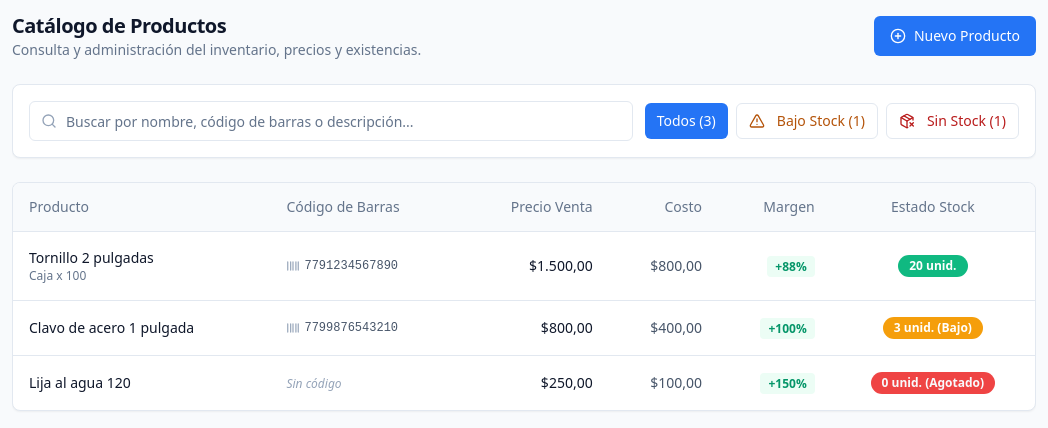
Test case: CatalogView Component › should filter products by "Bajo Stock"
Click the button "Bajo Stock (1)" at (807, 121), box [736,103,878,139]
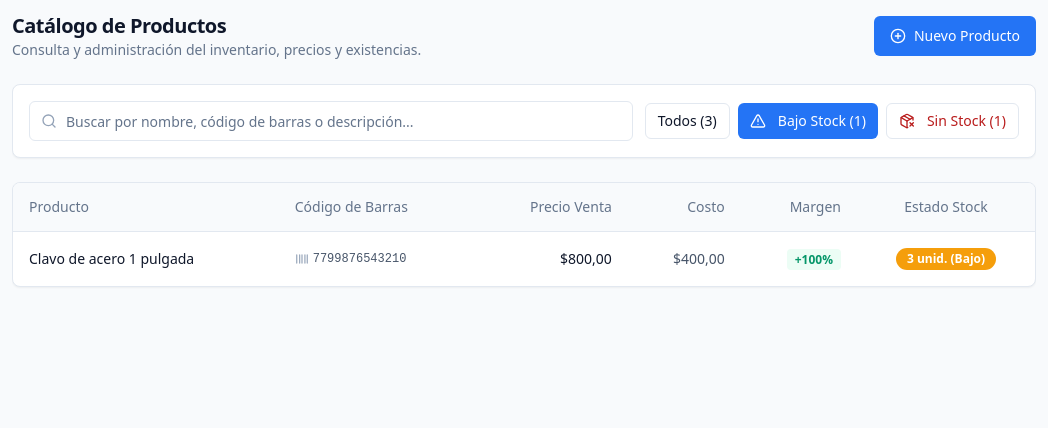
Expected: the text "Clavo de acero 1 pulgada" is shown, [29,248,194,268]
Expected: the text "Tornillo 2 pulgadas" is gone
Expected: the text "Lija al agua 120" is gone
